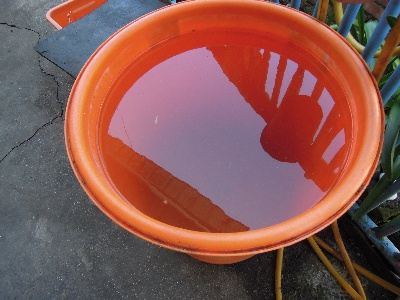bucket: (62, 1, 388, 268)
